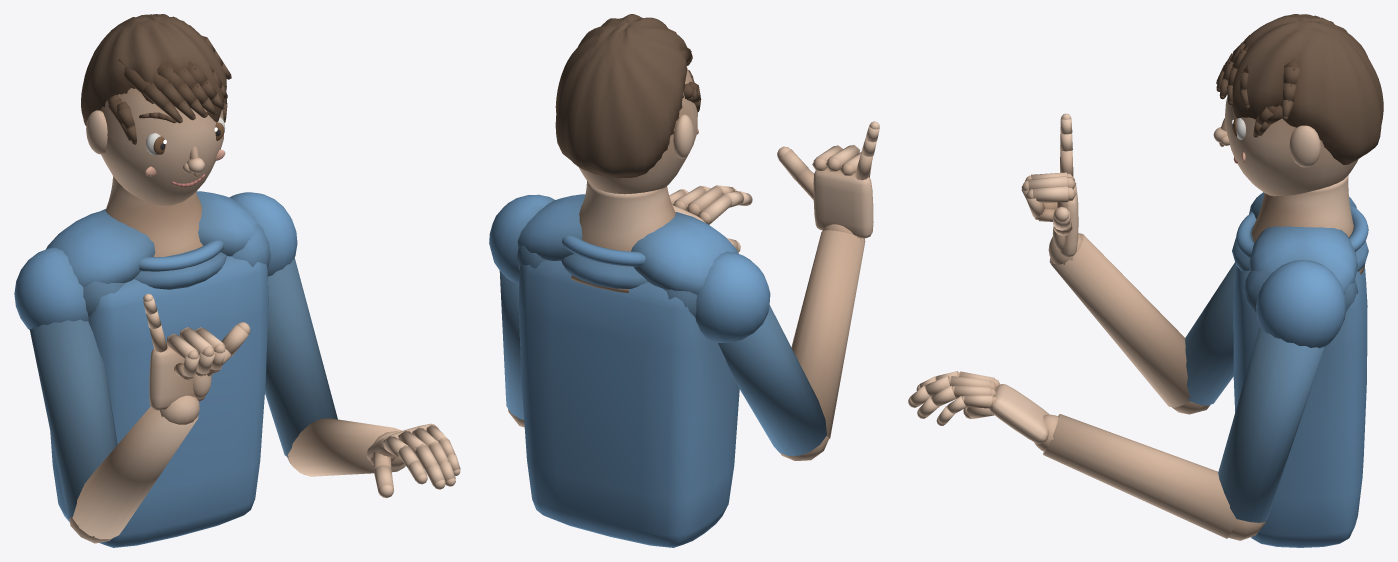
3 renders of one model, left to right at view 1: azimuth 30°, elevation 25°; view 2: azimuth 150°, elevation 25°; view 3: azimuth 270°, elevation 25°, orthographic.
Visible parts, largest first — view 1: LSC_Body; view 2: LSC_Body; view 3: LSC_Body.
Part boxes in pixels (box(x1,y1,x2,y2)): LSC_Body: box(14, 14, 460, 547); LSC_Body: box(489, 14, 879, 547); LSC_Body: box(908, 14, 1383, 547).
Size of the model in its own units: 0.4304 by 0.713 by 0.6104.
